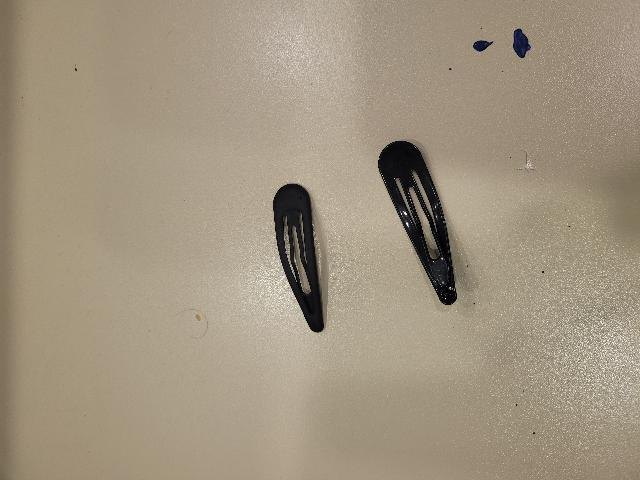Metal: (379, 137, 459, 301), (273, 177, 325, 335)
